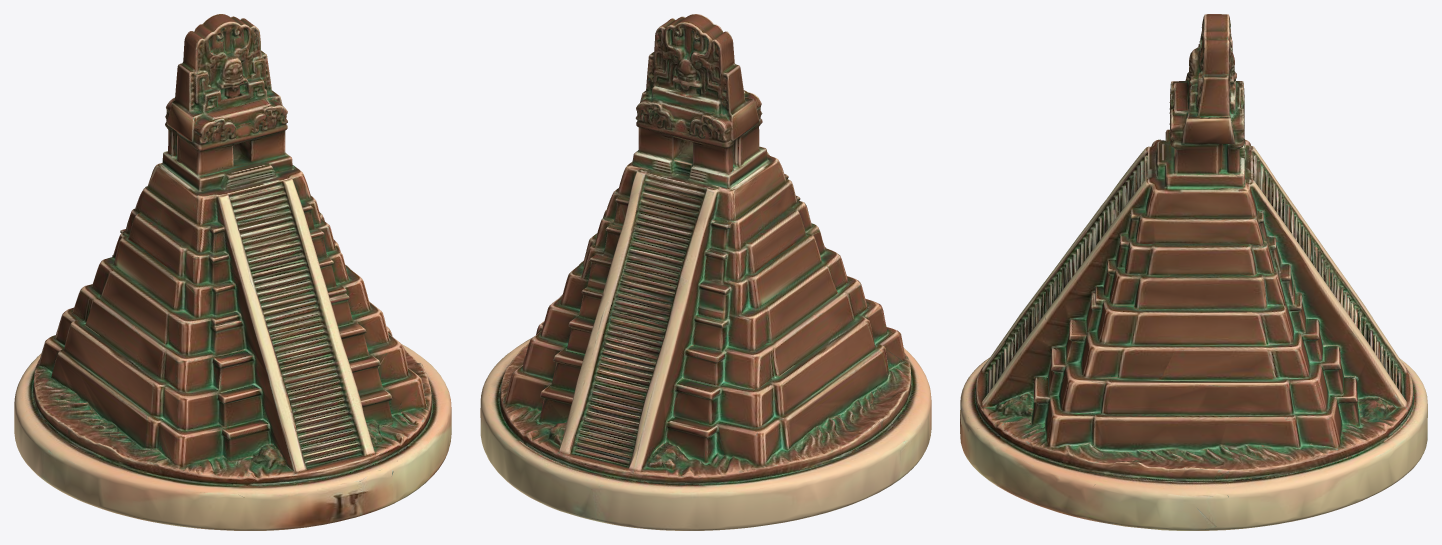
Rendered from tikal_meshy.glb.
The picture shows the model from 3 angles, left to right: view 1: azimuth 30°, elevation 25°; view 2: azimuth 150°, elevation 25°; view 3: azimuth 270°, elevation 25°; orthographic projection. The views are drawn at different scales.
Parts seen in each view (by area): view 1: Mesh_0; view 2: Mesh_0; view 3: Mesh_0.
Part boxes in pixels (box(x1,y1,x2,y2)): Mesh_0: box(14, 14, 451, 530); Mesh_0: box(480, 14, 931, 530); Mesh_0: box(960, 14, 1427, 530).
Bounding box in the file's own units: 1.83 × 1.91 × 1.91.
Materials: 1 (1 with a texture image).
